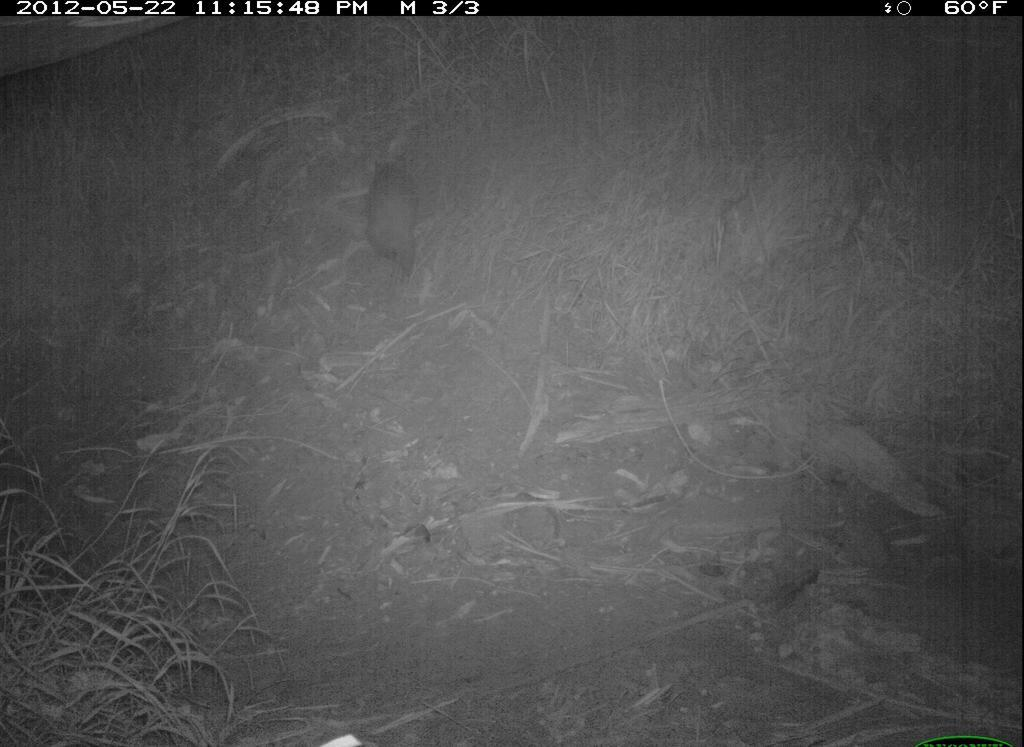opossum: (350, 152, 433, 297)
